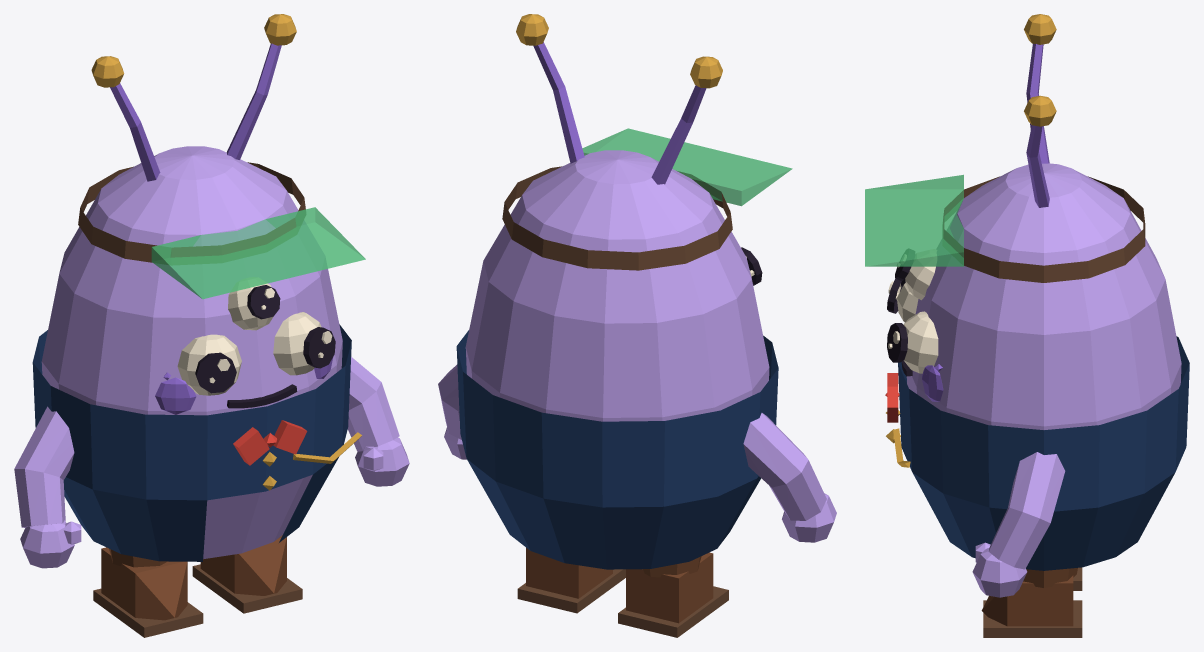
File: Char_Native_Banker.fbx
The picture shows the model from 3 angles, left to right: view 1: azimuth 30°, elevation 25°; view 2: azimuth 150°, elevation 25°; view 3: azimuth 270°, elevation 25°; orthographic projection. The views are drawn at different scales.
Parts seen in each view (by area): view 1: Char_Native_Banker_Body, Char_Native_Banker_Head, Char_Native_Banker_Arm_R, Char_Native_Banker_Leg_R, Char_Native_Banker_Leg_L, Char_Native_Banker_Arm_L; view 2: Char_Native_Banker_Body, Char_Native_Banker_Leg_R, Char_Native_Banker_Arm_R, Char_Native_Banker_Head, Char_Native_Banker_Leg_L, Char_Native_Banker_Arm_L; view 3: Char_Native_Banker_Body, Char_Native_Banker_Head, Char_Native_Banker_Arm_L, Char_Native_Banker_Leg_L.
Part boxes in pixels (x1=…): Char_Native_Banker_Body: x1=32, y1=146, x2=365, y2=561; Char_Native_Banker_Head: x1=91, y1=14, x2=335, y2=414; Char_Native_Banker_Arm_R: x1=14, y1=406, x2=81, y2=568; Char_Native_Banker_Leg_R: x1=93, y1=547, x2=203, y2=637; Char_Native_Banker_Leg_L: x1=192, y1=535, x2=302, y2=613; Char_Native_Banker_Arm_L: x1=348, y1=357, x2=409, y2=486; Char_Native_Banker_Body: x1=456, y1=128, x2=792, y2=569; Char_Native_Banker_Leg_R: x1=618, y1=552, x2=728, y2=637; Char_Native_Banker_Arm_R: x1=743, y1=413, x2=836, y2=542; Char_Native_Banker_Head: x1=516, y1=14, x2=762, y2=285; Char_Native_Banker_Leg_L: x1=517, y1=547, x2=625, y2=613; Char_Native_Banker_Arm_L: x1=438, y1=364, x2=466, y2=459; Char_Native_Banker_Body: x1=865, y1=163, x2=1189, y2=570; Char_Native_Banker_Head: x1=887, y1=14, x2=1056, y2=401; Char_Native_Banker_Arm_L: x1=972, y1=452, x2=1065, y2=597; Char_Native_Banker_Leg_L: x1=981, y1=568, x2=1082, y2=637.
Bounding box in the file's own units: 1.17 × 1.64 × 0.8864.
